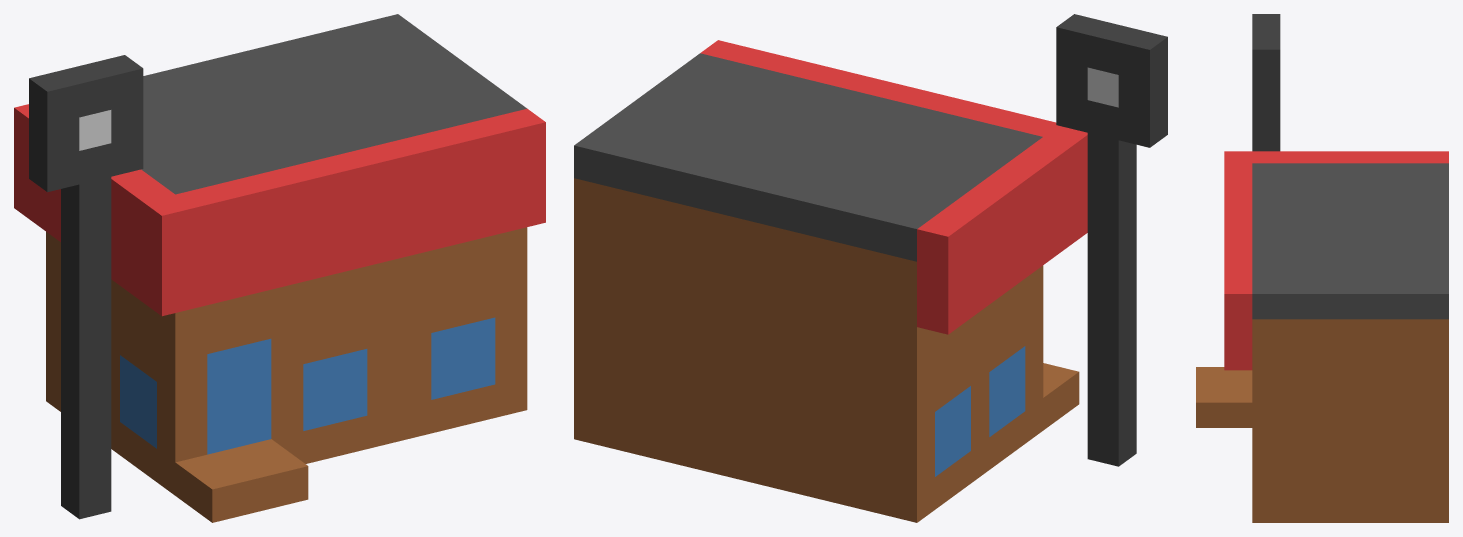
The model's file is Restaurant.fbx.
3 views of the same model, side by side, from view 1: azimuth 30°, elevation 25°; view 2: azimuth 150°, elevation 25°; view 3: azimuth 270°, elevation 25° (orthographic). The views are drawn at different scales.
Visible parts, largest first — view 1: Restaurant; view 2: Restaurant; view 3: Restaurant.
Part boxes in pixels (bbox=[...]): Restaurant: bbox=[14, 14, 545, 522]; Restaurant: bbox=[574, 14, 1167, 522]; Restaurant: bbox=[1196, 14, 1448, 522].
Size of the model in its own units: 6.72 by 5.82 by 4.03.
